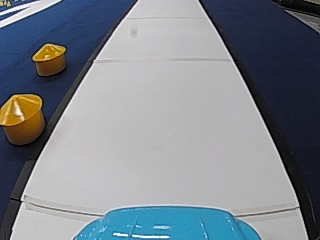granary: (0, 90, 45, 146), (30, 41, 66, 76)
